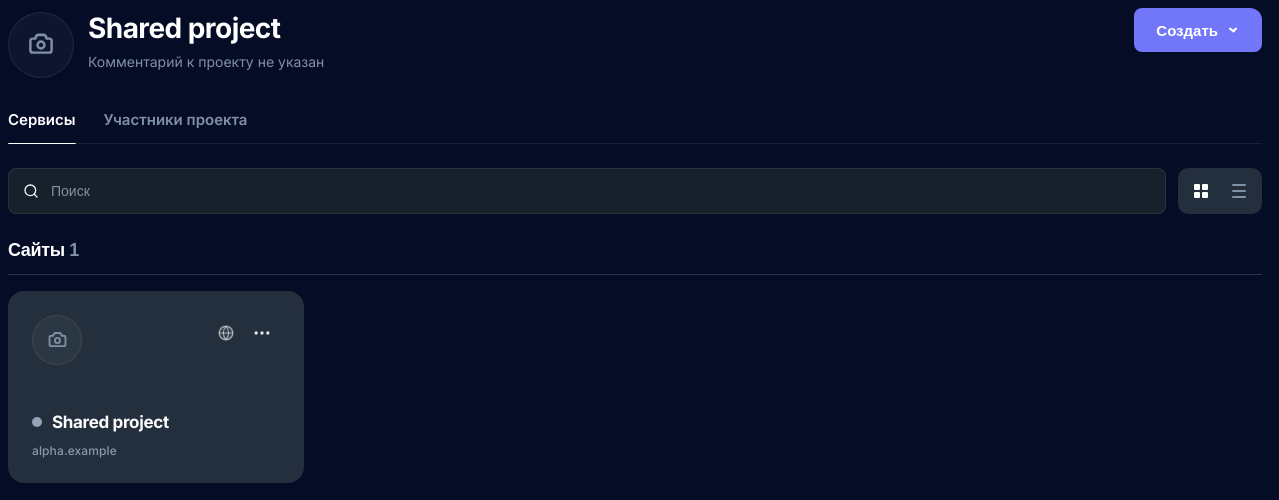
SiteProjectLayout child sites › hides shell chrome while create-site form is open
Click the button with test id "project-create-menu-trigger" at (1198, 30), box 1134,8 -> 1262,52
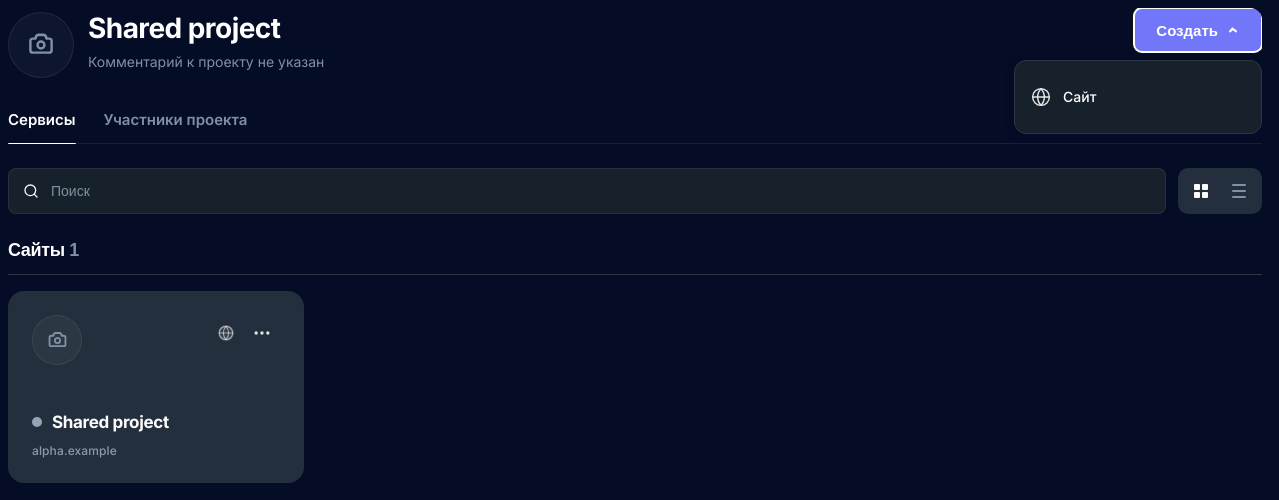
Click the menu item with test id "project-create-menu-site" at (1138, 97), box 1015,77 -> 1261,117
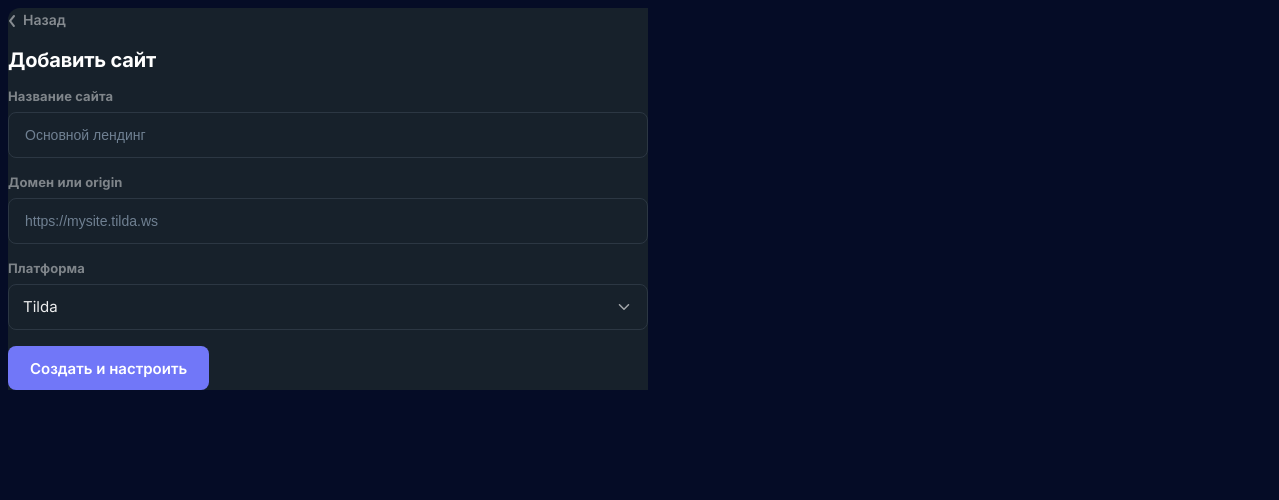
Now the field with test id "project-add-site-origin" is shown, box 9,199 -> 647,243
Now the button with test id "project-create-menu-trigger" is gone
